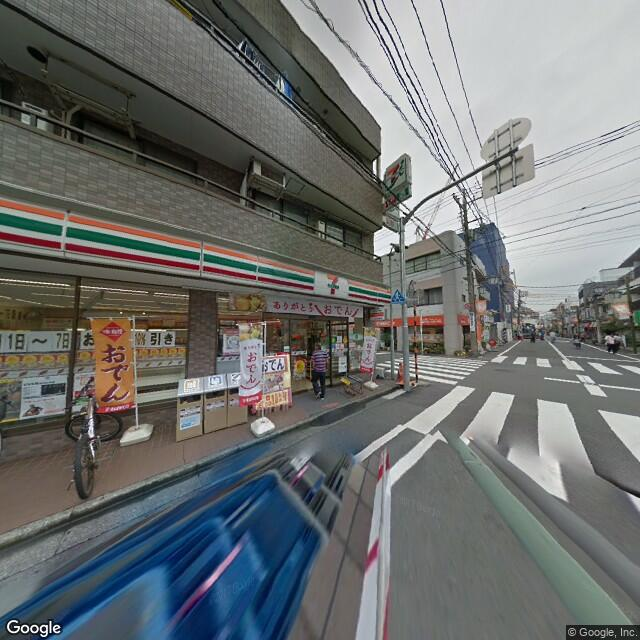7-eleven: (1, 193, 392, 307), (385, 150, 409, 192)
